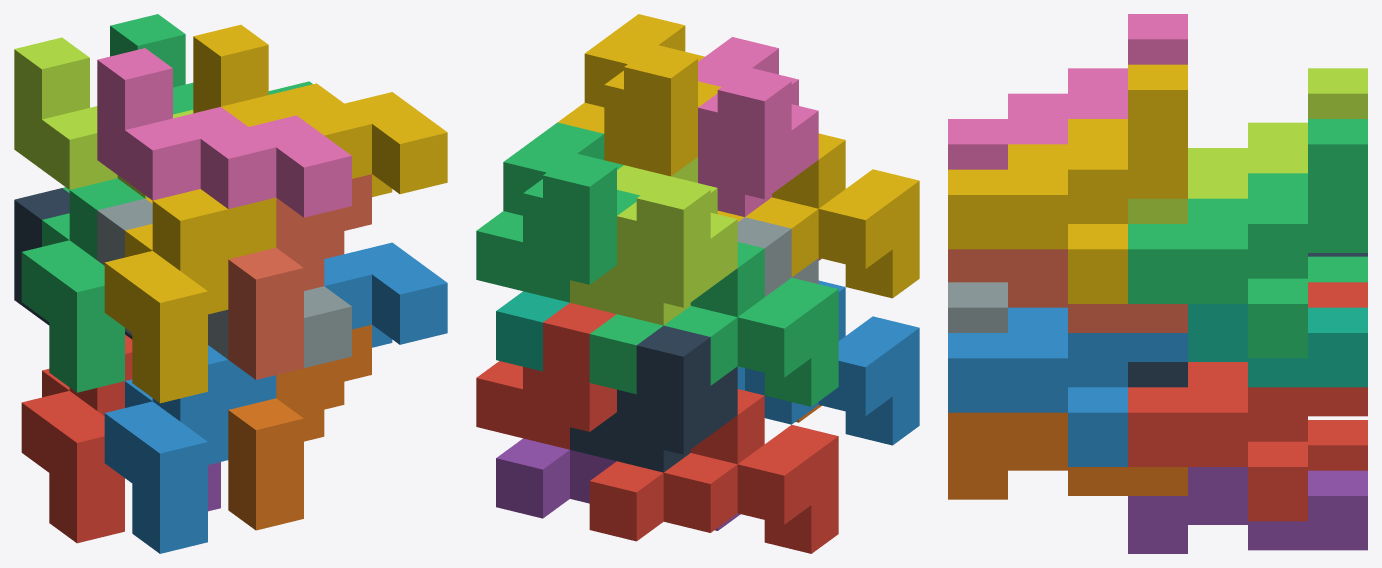
File: tiling.obj
3 renders of one model, left to right at view 1: azimuth 30°, elevation 25°; view 2: azimuth 150°, elevation 25°; view 3: azimuth 270°, elevation 25°, orthographic. The views are drawn at different scales.
Parts seen in each view (by area): view 1: copy_2_domain_4, copy_1_domain_4, copy_2_domain_8, copy_1_domain_2, copy_1_domain_3, copy_1_domain_8, copy_1_domain_6, copy_1_domain_1, copy_2_domain_3, copy_2_domain_6, copy_2_domain_2, copy_2_domain_7 (+2 smaller); view 2: copy_1_domain_1, copy_1_domain_3, copy_2_domain_7, copy_2_domain_3, copy_1_domain_4, copy_2_domain_8, copy_2_domain_4, copy_2_domain_1, copy_2_domain_5, copy_1_domain_2, copy_1_domain_5, copy_1_domain_7 (+1 smaller); view 3: copy_2_domain_8, copy_2_domain_7, copy_2_domain_5, copy_2_domain_6, copy_1_domain_5, copy_1_domain_6, copy_2_domain_4, copy_2_domain_3, copy_1_domain_7, copy_1_domain_8, copy_1_domain_1, copy_2_domain_2 (+2 smaller).
Boxes of the visible parts, x1,y1,x2,y2 form: copy_2_domain_4: (97, 48, 351, 217); copy_1_domain_4: (104, 189, 276, 403); copy_2_domain_8: (193, 24, 447, 197); copy_1_domain_2: (104, 345, 276, 553); copy_1_domain_3: (21, 178, 144, 392); copy_1_domain_8: (228, 174, 371, 379); copy_1_domain_6: (228, 324, 371, 530); copy_1_domain_1: (21, 334, 132, 543); copy_2_domain_3: (14, 37, 193, 198); copy_2_domain_6: (324, 242, 447, 347); copy_2_domain_2: (97, 198, 351, 368); copy_2_domain_7: (110, 14, 312, 114); copy_1_domain_1: (589, 389, 838, 553); copy_1_domain_3: (589, 242, 838, 406); copy_2_domain_7: (476, 122, 640, 302); copy_2_domain_3: (570, 157, 737, 325); copy_1_domain_4: (717, 133, 919, 298); copy_2_domain_8: (557, 14, 721, 176); copy_2_domain_4: (698, 37, 818, 216); copy_2_domain_1: (570, 325, 737, 472); copy_2_domain_5: (476, 303, 616, 449); copy_1_domain_2: (737, 280, 919, 445); copy_1_domain_5: (496, 438, 740, 530); copy_1_domain_7: (496, 291, 740, 371); copy_2_domain_8: (948, 64, 1187, 303); copy_2_domain_7: (1128, 119, 1367, 358); copy_2_domain_5: (1128, 282, 1367, 521); copy_2_domain_6: (948, 307, 1187, 466); copy_1_domain_5: (1128, 467, 1367, 553); copy_1_domain_6: (948, 412, 1187, 499); copy_2_domain_4: (948, 14, 1187, 169); copy_2_domain_3: (1128, 68, 1367, 223); copy_1_domain_7: (1188, 304, 1367, 387); copy_1_domain_8: (948, 249, 1187, 332); copy_1_domain_1: (1308, 420, 1367, 470); copy_2_domain_2: (948, 282, 1007, 332).
Size of the model in its own units: 6 by 9 by 7.
